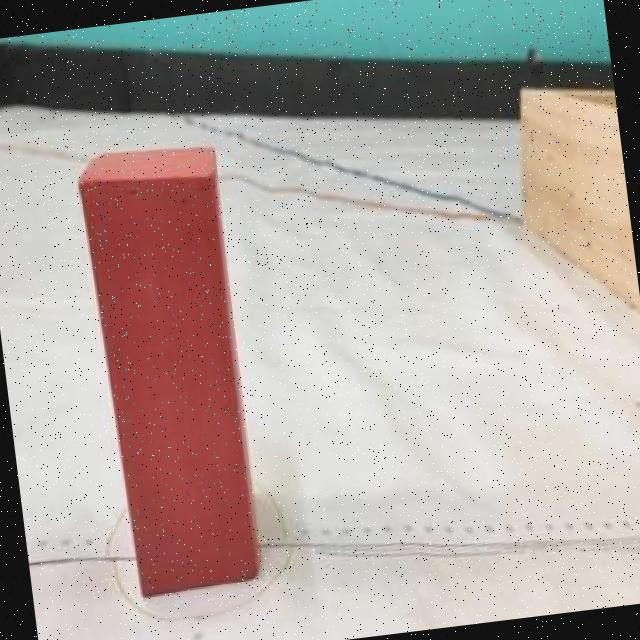redbox: (71, 138, 266, 608)
